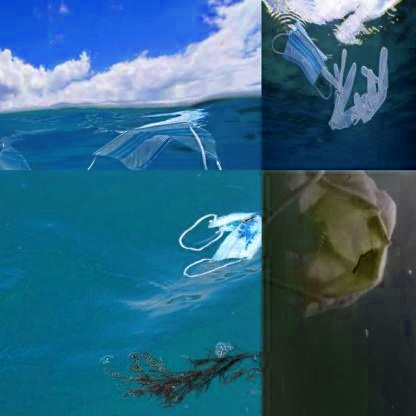Mask: (262, 170, 402, 373), (82, 121, 234, 169), (176, 208, 261, 281), (270, 20, 332, 102)
glove: (353, 46, 392, 132), (321, 47, 358, 130), (0, 142, 84, 170)
